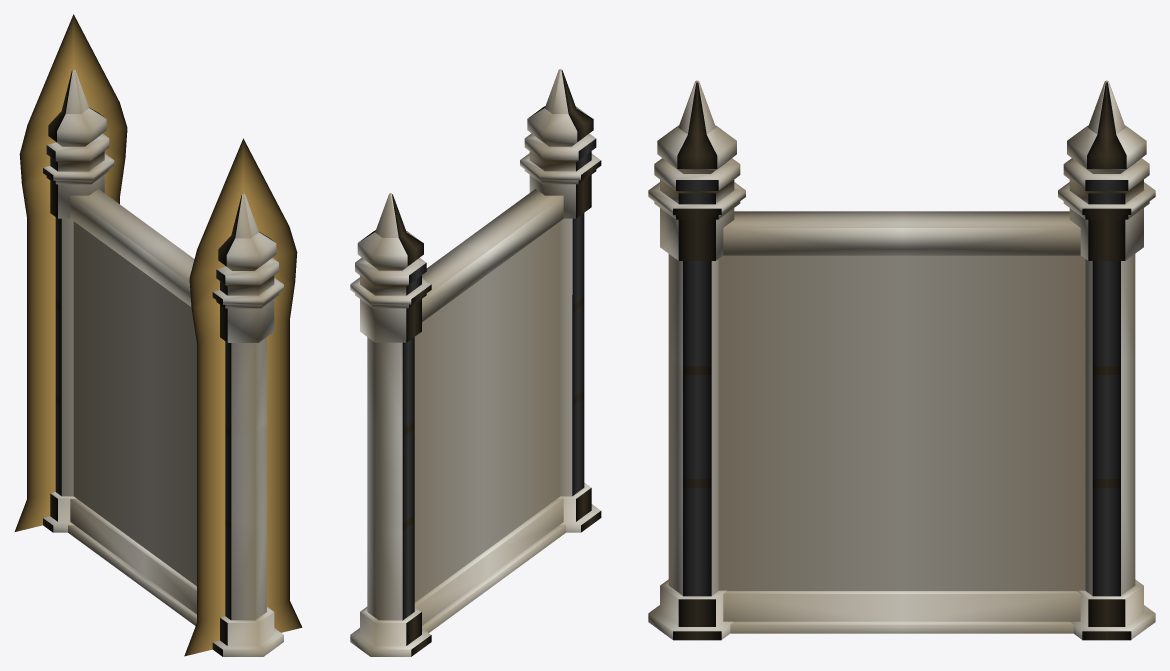
The model's file is SpaceWall.gltf.
3 views of the same model, side by side, from view 1: azimuth 30°, elevation 25°; view 2: azimuth 150°, elevation 25°; view 3: azimuth 270°, elevation 25° (orthographic). The views are drawn at different scales.
Visible parts, largest first — view 1: SpaceWallMesh; view 2: SpaceWallMesh; view 3: SpaceWallMesh.
Boxes of the visible parts, <box> form: SpaceWallMesh: <box>14,14,302,656</box>; SpaceWallMesh: <box>350,69,601,656</box>; SpaceWallMesh: <box>648,80,1155,640</box>.
Size of what is drawn, in the model's own units: 3.35 by 13.63 by 10.3.
